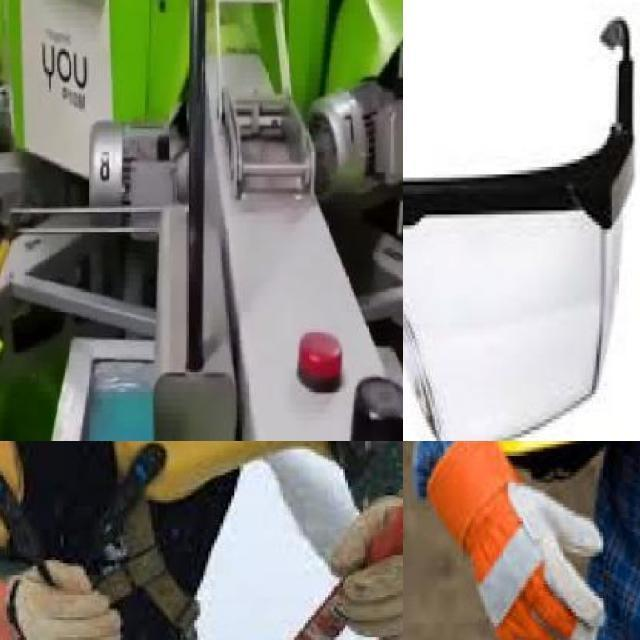apron: (423, 441, 600, 640), (325, 486, 403, 640), (0, 551, 128, 640)
